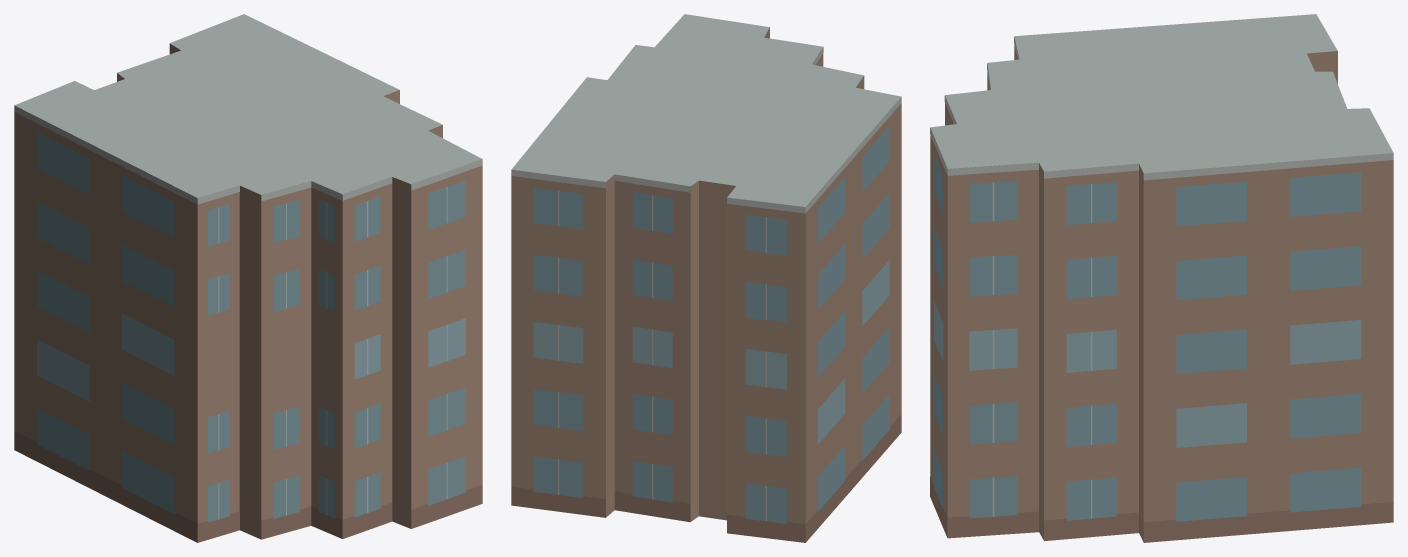
Rendered from survey-upis-32630875.glb.
3 views of the same model, side by side, from view 1: azimuth 30°, elevation 25°; view 2: azimuth 150°, elevation 25°; view 3: azimuth 270°, elevation 25° (orthographic). The views are drawn at different scales.
Parts seen in each view (by area): view 1: survey-upis-32630875.tmp; view 2: survey-upis-32630875.tmp; view 3: survey-upis-32630875.tmp.
Part boxes in pixels (x1,y1,x2,y2): survey-upis-32630875.tmp: (14, 14, 482, 542); survey-upis-32630875.tmp: (511, 14, 901, 542); survey-upis-32630875.tmp: (930, 14, 1393, 542).
Bounding box in the file's own units: 12.05 × 13 × 14.8.
